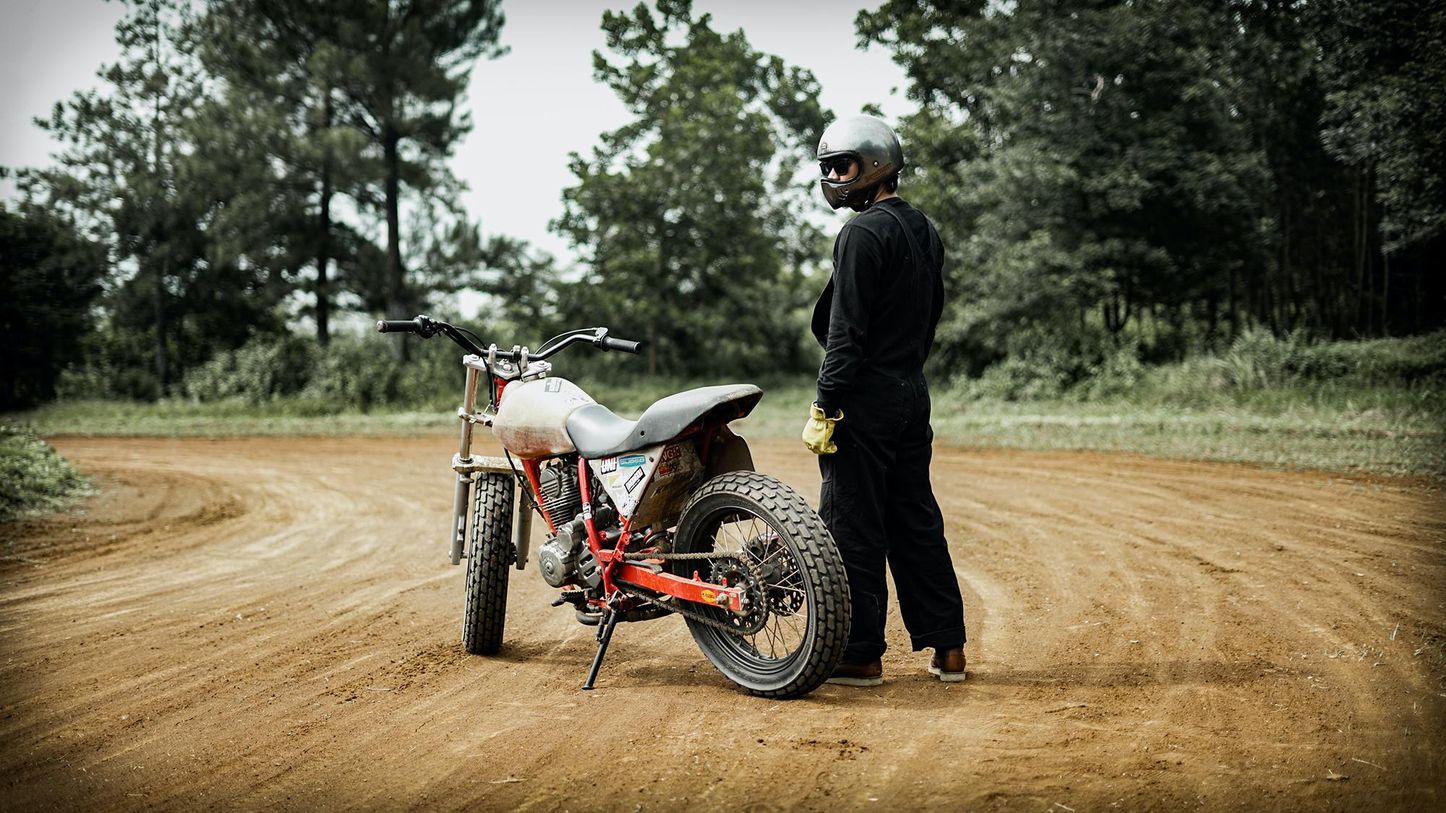helmet: (816, 112, 905, 213)
